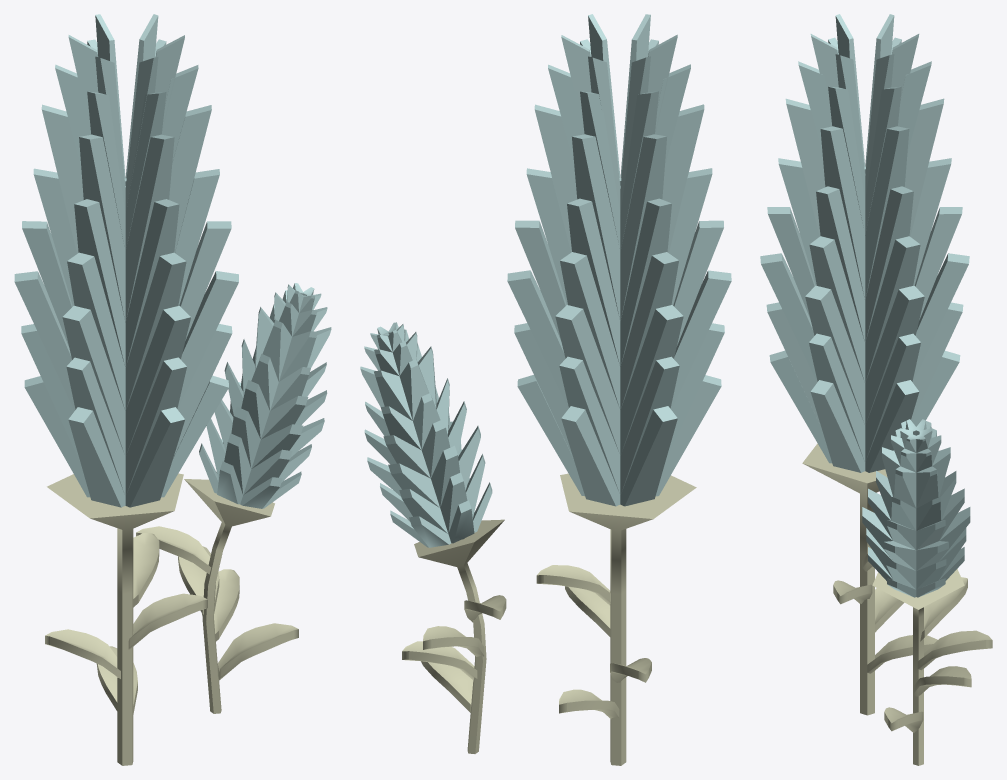
The model's file is flower06.fbx.
The picture shows the model from 3 angles, left to right: view 1: azimuth 30°, elevation 25°; view 2: azimuth 150°, elevation 25°; view 3: azimuth 270°, elevation 25°; orthographic projection. The views are drawn at different scales.
Parts seen in each view (by area): view 1: pPipe23, pPipe27, pPipe22, pPipe26, pCube24, pCube16, pCube15, pCube17, pCube23, pCube25, pCube22, pCube14; view 2: pPipe23, pPipe27, pPipe22, pPipe26, pCube17, pCube25, pCube24, pCube22, pCube14, pCube16, pCube23, pCube15; view 3: pPipe23, pPipe27, pPipe22, pPipe26, pCube22, pCube25, pCube23, pCube14, pCube24, pCube15, pCube16.
Part boxes in pixels (left/top/right/bottom): pPipe23: left=14, top=14, right=238, bottom=507; pPipe27: left=199, top=283, right=331, bottom=508; pPipe22: left=47, top=473, right=183, bottom=765; pPipe26: left=184, top=479, right=274, bottom=713; pCube24: left=217, top=623, right=298, bottom=680; pCube16: left=128, top=593, right=207, bottom=649; pCube15: left=45, top=629, right=120, bottom=678; pCube17: left=133, top=533, right=159, bottom=607; pCube23: left=136, top=526, right=211, bottom=574; pCube25: left=202, top=569, right=239, bottom=641; pCube22: left=178, top=546, right=219, bottom=614; pCube14: left=96, top=646, right=137, bottom=714; pPipe23: left=507, top=14, right=731, bottom=506; pPipe27: left=360, top=322, right=492, bottom=547; pPipe22: left=560, top=473, right=696, bottom=765; pPipe26: left=414, top=519, right=504, bottom=753; pCube17: left=536, top=565, right=610, bottom=605; pCube25: left=402, top=641, right=477, bottom=680; pCube24: left=421, top=661, right=473, bottom=712; pCube22: left=423, top=626, right=484, bottom=656; pCube14: left=559, top=689, right=619, bottom=718; pCube16: left=565, top=586, right=610, bottom=636; pCube23: left=464, top=595, right=506, bottom=622; pCube15: left=610, top=658, right=651, bottom=682; pPipe23: left=760, top=14, right=969, bottom=472; pPipe27: left=862, top=419, right=970, bottom=597; pPipe22: left=802, top=443, right=887, bottom=715; pPipe26: left=872, top=569, right=964, bottom=765; pCube22: left=917, top=630, right=992, bottom=670; pCube25: left=913, top=666, right=971, bottom=696; pCube23: left=920, top=577, right=967, bottom=641; pCube14: left=867, top=635, right=937, bottom=673; pCube24: left=884, top=707, right=923, bottom=732; pCube15: left=875, top=588, right=904, bottom=632; pCube16: left=833, top=580, right=872, bottom=604.
Size of the model in its own units: 7.17 by 15.93 by 4.95.
